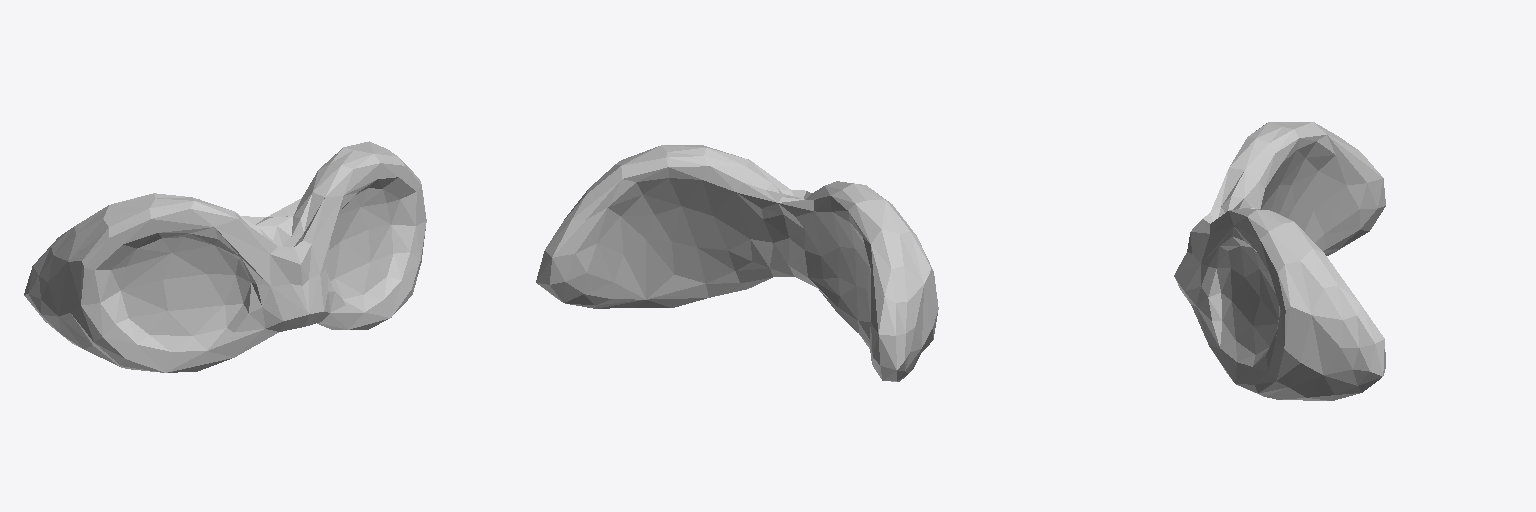
File: Goggles.OBJ
3 renders of one model, left to right at view 1: azimuth 30°, elevation 25°; view 2: azimuth 150°, elevation 25°; view 3: azimuth 270°, elevation 25°, orthographic.
Visible parts, largest first — view 1: Group30833; view 2: Group30833; view 3: Group30833.
Part boxes in pixels (x1,y1,x2,y2): Group30833: (24, 141, 426, 372); Group30833: (536, 145, 938, 381); Group30833: (1174, 122, 1385, 400).
Bounding box in the file's own units: 21.88 × 9.37 × 11.02.